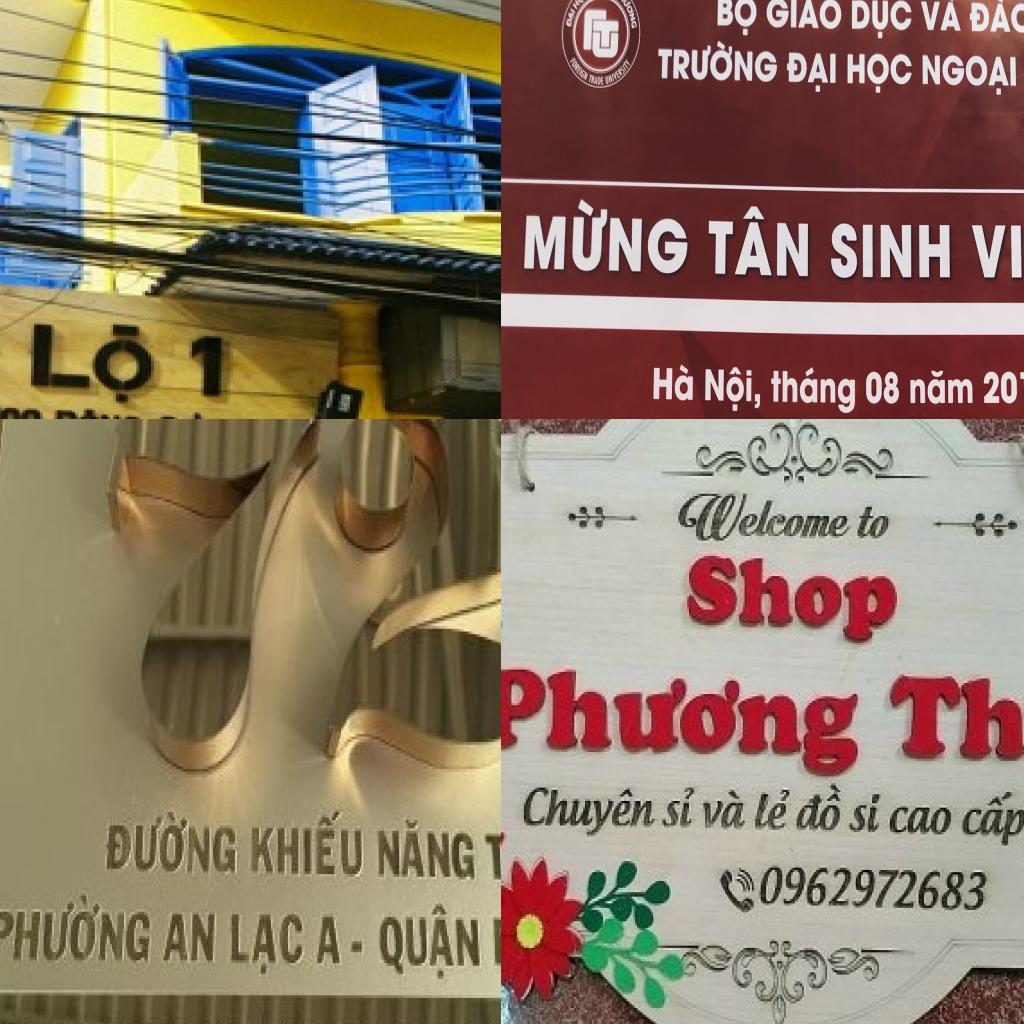text: (79, 419, 501, 796), (501, 660, 868, 783), (673, 550, 913, 656), (882, 662, 1024, 796), (20, 304, 172, 408), (522, 192, 690, 278), (0, 884, 156, 976), (93, 798, 242, 888), (247, 804, 372, 893), (673, 489, 857, 547), (518, 776, 666, 846), (375, 898, 483, 990), (370, 809, 481, 893), (706, 202, 812, 280), (829, 222, 952, 282), (226, 904, 307, 979), (656, 36, 779, 84), (180, 327, 242, 408), (956, 787, 1024, 856), (158, 901, 222, 974), (770, 365, 856, 417), (310, 904, 372, 974), (966, 207, 1024, 281), (921, 54, 1018, 98), (790, 781, 850, 841), (704, 363, 763, 414), (846, 52, 914, 96), (888, 799, 956, 843), (850, 0, 914, 42), (764, 0, 843, 32), (909, 368, 974, 406), (752, 783, 796, 839), (785, 48, 838, 94), (658, 781, 702, 836), (702, 788, 748, 836), (847, 790, 890, 841), (854, 501, 899, 547), (966, 0, 1024, 35), (479, 809, 501, 892), (652, 363, 695, 403), (715, 0, 759, 37), (982, 370, 1024, 406), (918, 0, 963, 33), (51, 405, 151, 419), (865, 369, 901, 406), (604, 56, 634, 90), (614, 0, 645, 32), (151, 407, 227, 419), (0, 401, 48, 419), (568, 54, 590, 86), (563, 6, 577, 31), (570, 0, 591, 13), (588, 72, 605, 86)
